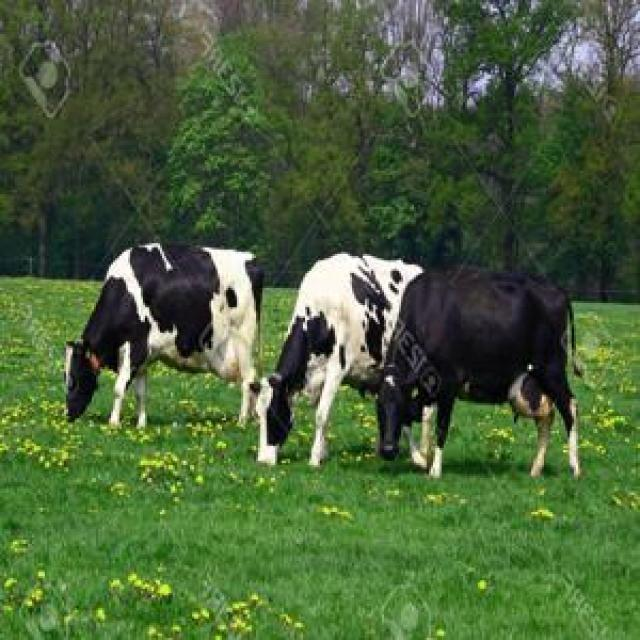cow: (378, 271, 578, 478), (66, 242, 262, 427), (256, 254, 422, 466)
